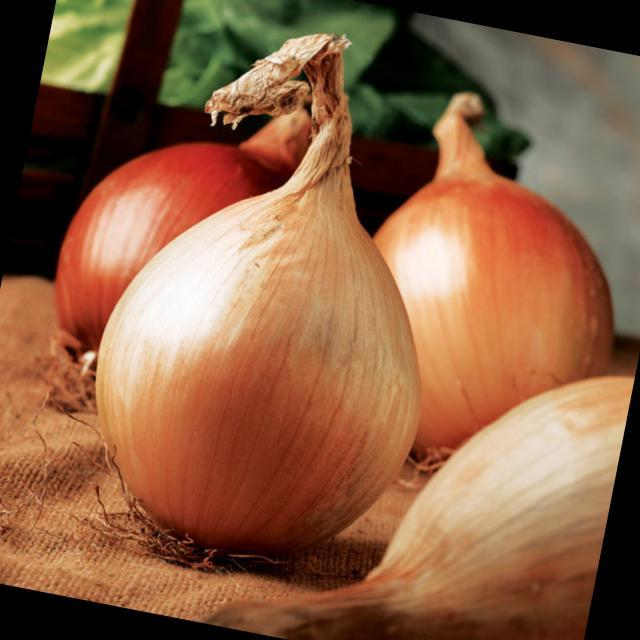ONIONS: (73, 146, 472, 584), (374, 76, 640, 402), (369, 331, 636, 640), (50, 109, 259, 344)
